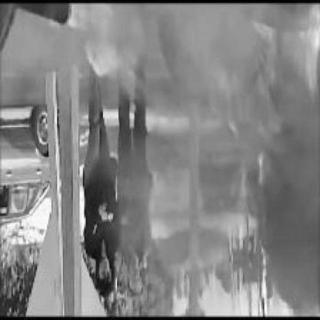Fire: (41, 6, 319, 148)
Smoke: (117, 149, 320, 316)
